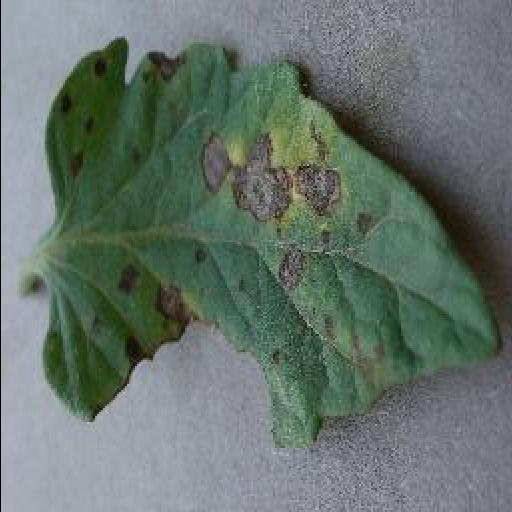disease_tomato: (42, 42, 504, 451)
